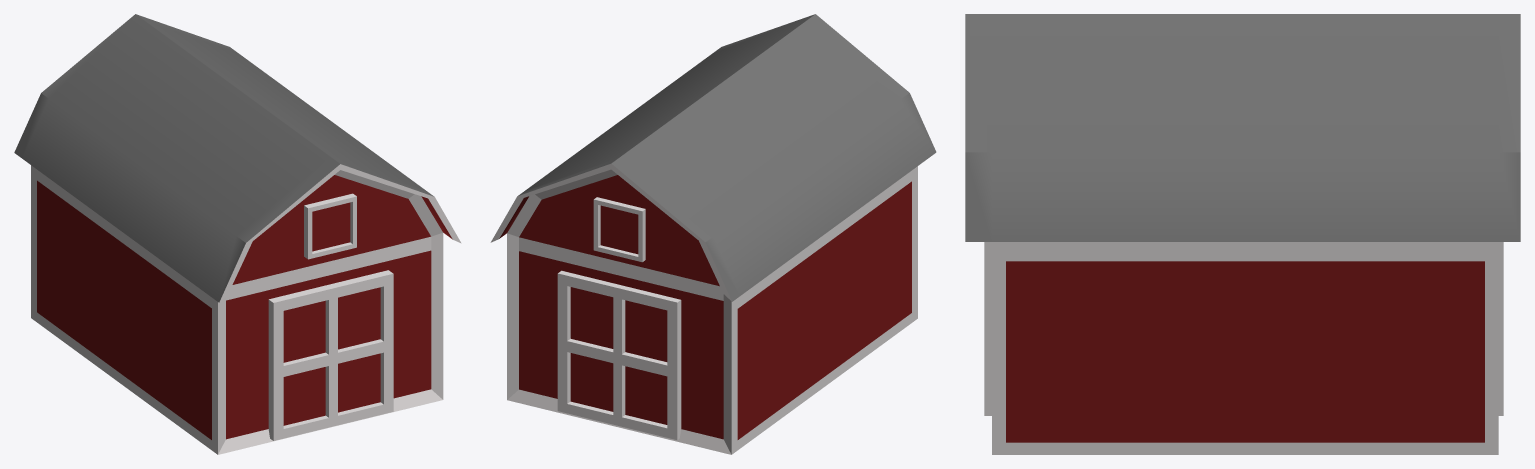
Rendered from FarmHouse.fbx.
The picture shows the model from 3 angles, left to right: view 1: azimuth 30°, elevation 25°; view 2: azimuth 150°, elevation 25°; view 3: azimuth 270°, elevation 25°; orthographic projection. The views are drawn at different scales.
Visible parts, largest first — view 1: FarmHouse; view 2: FarmHouse; view 3: FarmHouse.
Boxes of the visible parts, x1,y1,x2,y2 form: FarmHouse: (14, 14, 461, 454); FarmHouse: (490, 14, 936, 454); FarmHouse: (965, 14, 1520, 454).
Size of the model in its own units: 2.6 by 2.77 by 3.8.
